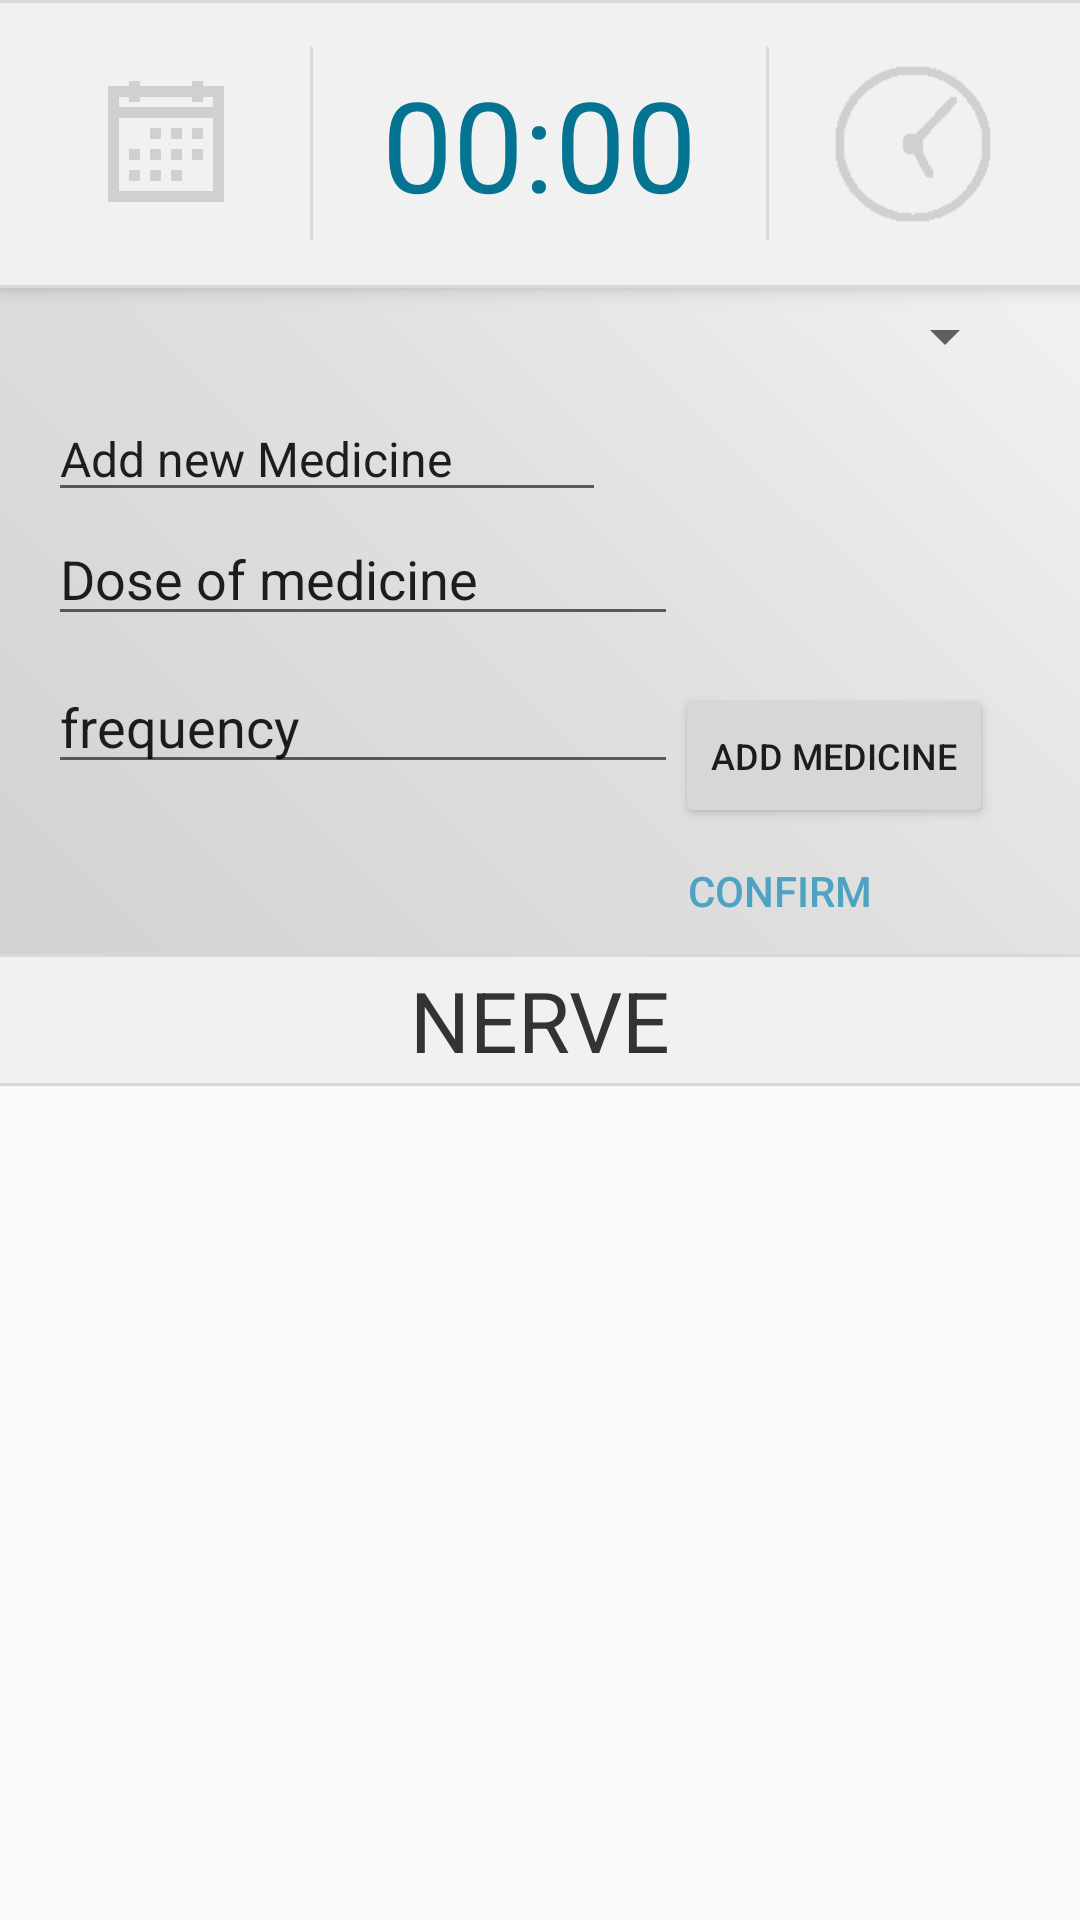

Screen size 1080px x 1920px. Icon name, then its center in pixels as (x,y):
calendar: (166,141)
clock: (913,144)
